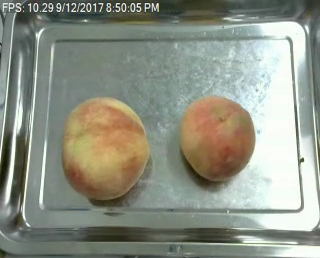Peach: (61, 95, 149, 200), (179, 95, 255, 180)
